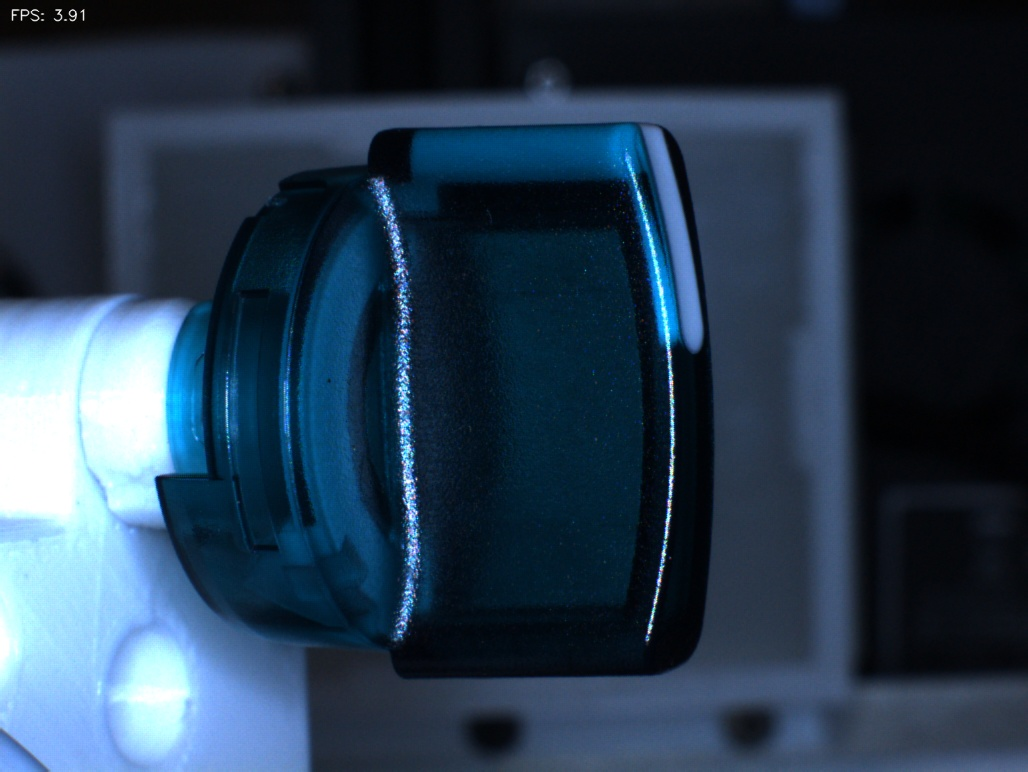PointNoir: (298, 341, 364, 417)
